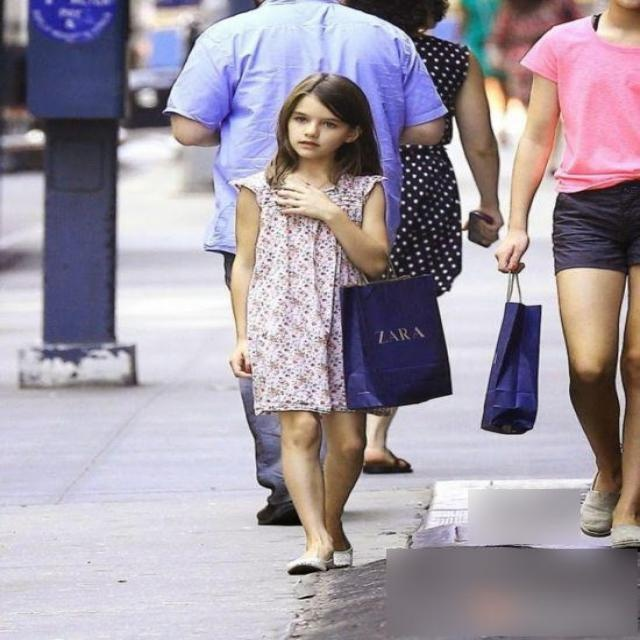obstacle: (206, 64, 498, 599)
